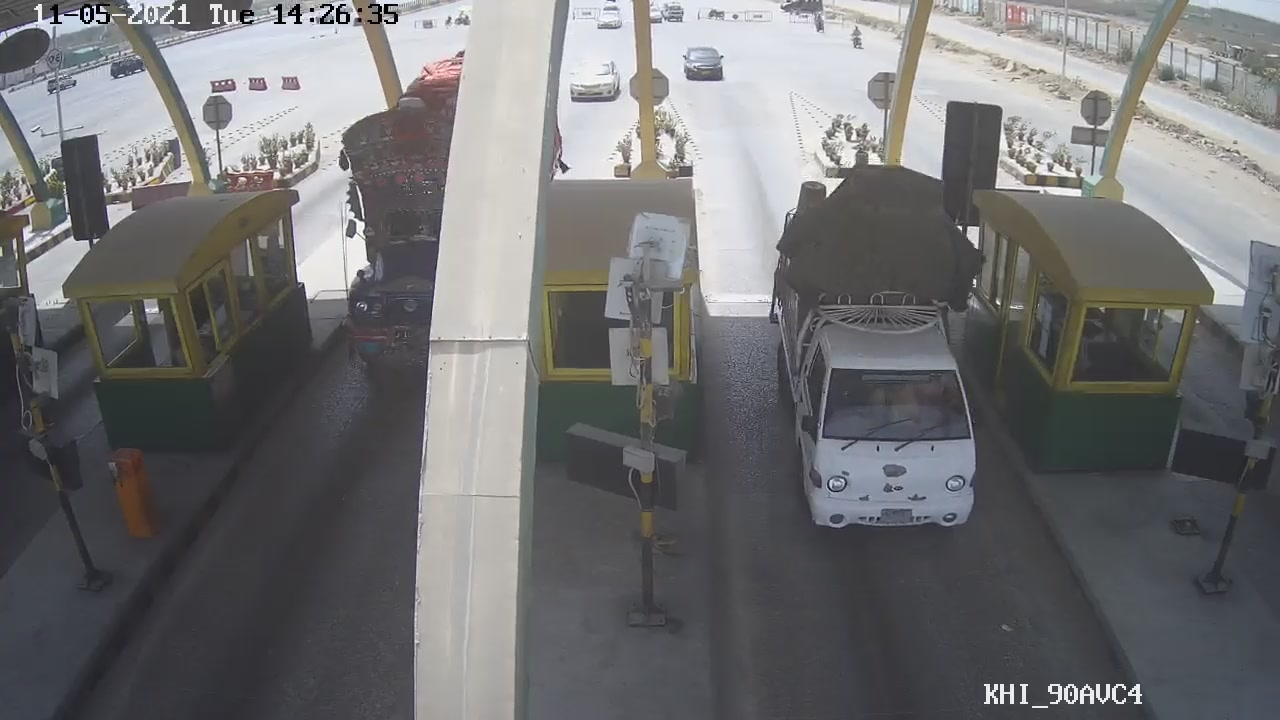F2: (769, 177, 997, 536)
